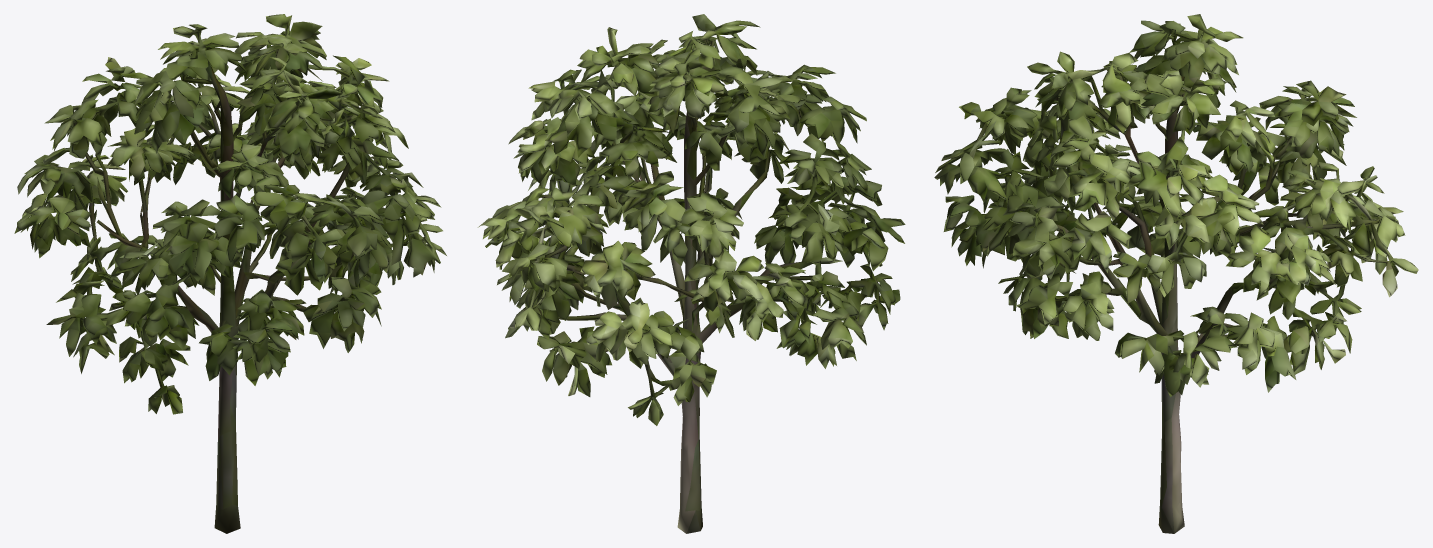
The model's file is tree_linden.glb.
3 renders of one model, left to right at view 1: azimuth 30°, elevation 25°; view 2: azimuth 150°, elevation 25°; view 3: azimuth 270°, elevation 25°, orthographic. The views are drawn at different scales.
Parts seen in each view (by area): view 1: tripo_node_b4bee070-640c-428d-a678-ecb02594bd06; view 2: tripo_node_b4bee070-640c-428d-a678-ecb02594bd06; view 3: tripo_node_b4bee070-640c-428d-a678-ecb02594bd06.
Part boxes in pixels (<box>): tripo_node_b4bee070-640c-428d-a678-ecb02594bd06: <box>14,14,446,533</box>; tripo_node_b4bee070-640c-428d-a678-ecb02594bd06: <box>477,14,905,533</box>; tripo_node_b4bee070-640c-428d-a678-ecb02594bd06: <box>934,14,1418,533</box>.
Bounding box in the file's own units: 0.7419 × 1 × 0.8713.
1 material, 1 textured.
